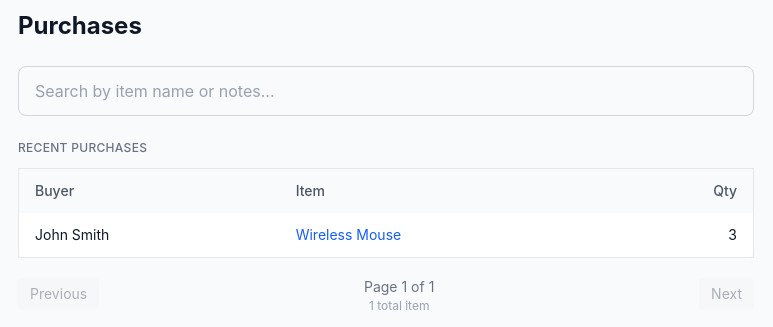
Scenario: PurchasesPage › shows no results message
The width and height of the screenshot is (773, 327).
Step 1. Type "xyznothing" into the field with placeholder "Search by item name or notes..." → (386, 91), box [18,66,754,116]
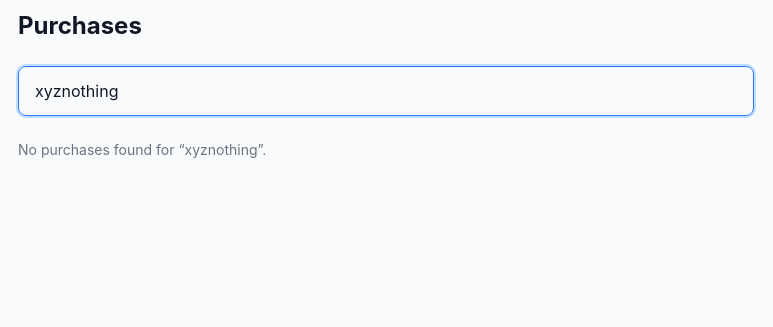
Expected: the text "No purchases found for “xyznothing”." is shown, [18,141,266,158]
